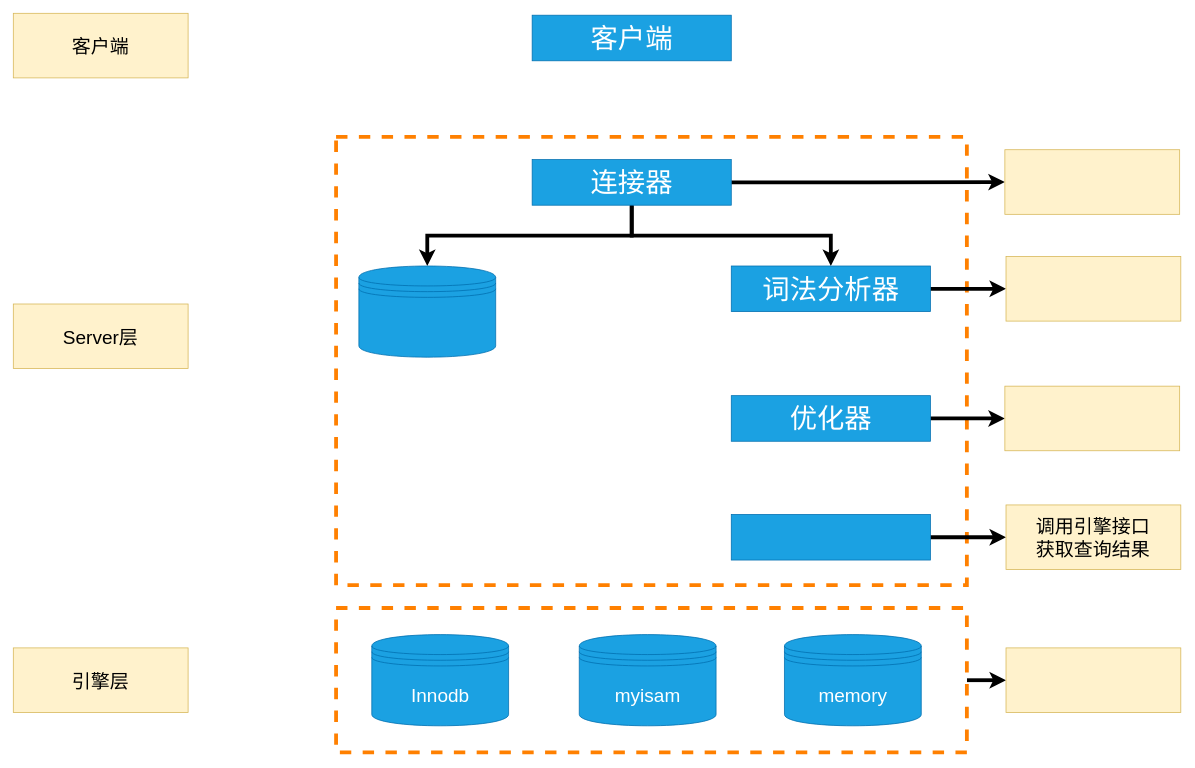
This 1195x768 diagram has some shape labels left out. The shapes that lost their labels are listed below. From the top down, each one's centre as x and y in pixels, then its label:
the point at 1092,181: 管理连接与权限教研
the point at 1093,288: 词法分析、语法分析
the point at 427,311: 查询缓存
the point at 1092,418: 执行计划生成、 索引选择
the point at 830,537: 执行器
the point at 1093,679: 读写磁盘，数据化结构存储的实现
